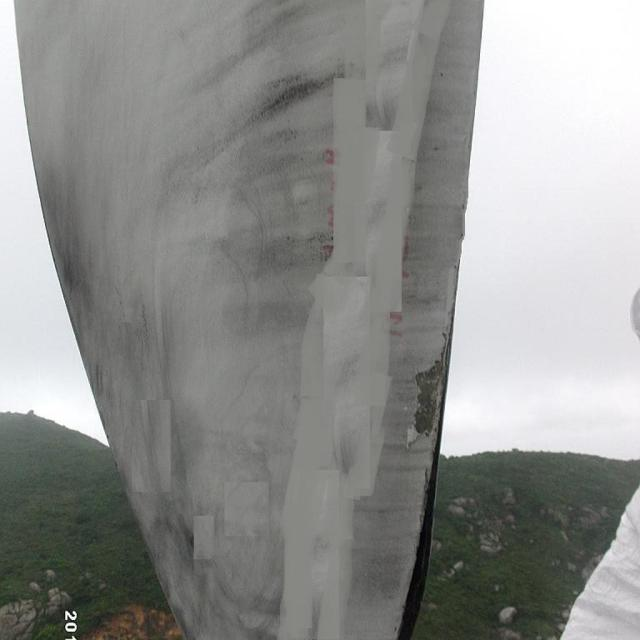crack: (388, 445, 437, 640)
surface_peeling: (411, 362, 441, 437)
